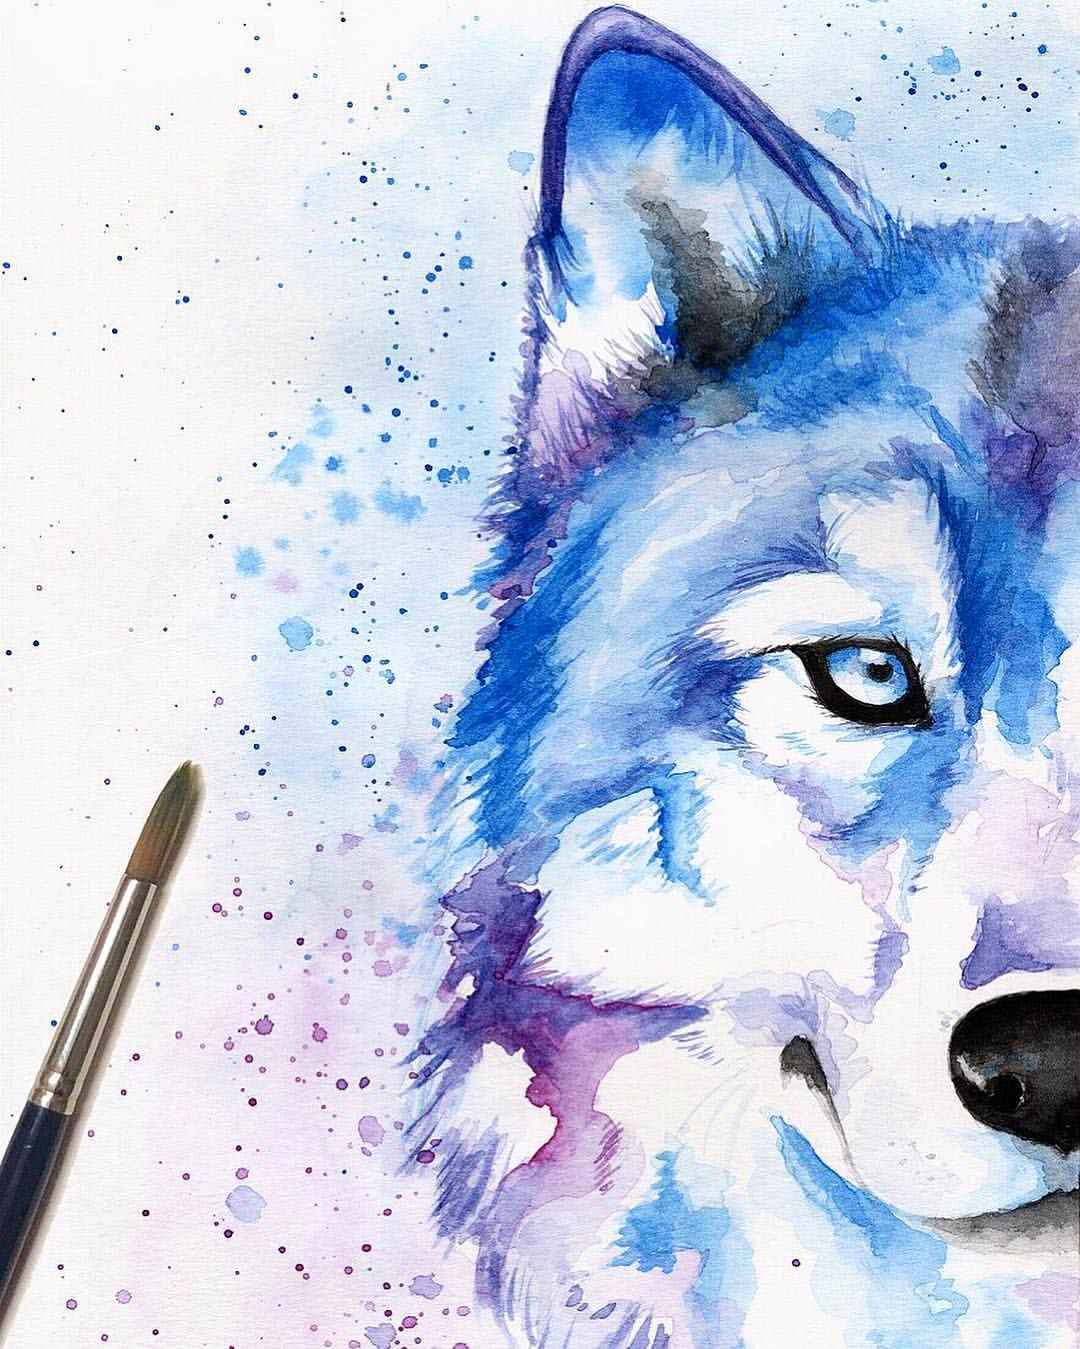Lobo: (409, 9, 1080, 1282)
